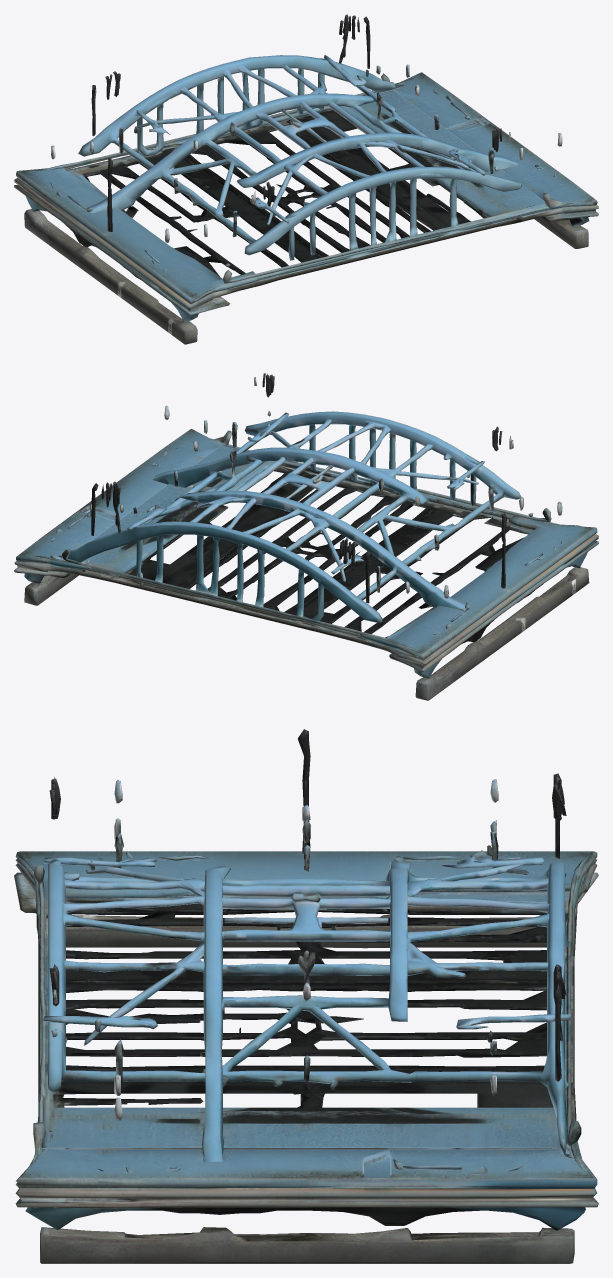
Rendered from bridge_2.glb.
3 views of the same model, one above another, from view 1: azimuth 30°, elevation 25°; view 2: azimuth 150°, elevation 25°; view 3: azimuth 270°, elevation 25° (orthographic). The views are drawn at different scales.
Bounding box in the file's own units: 1.91 × 0.6145 × 1.41.
Materials: 1 (1 with a texture image).
